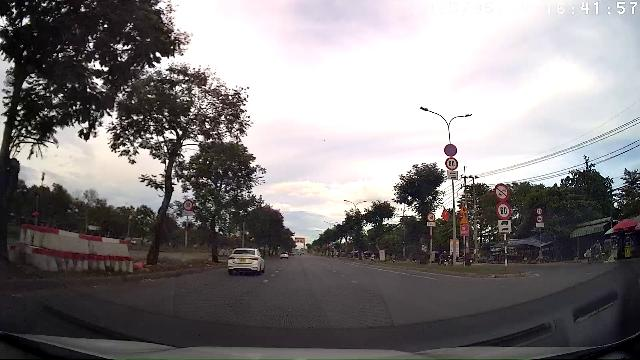127-toc-do-toi-da-50: (183, 199, 194, 211), (536, 207, 543, 215)
127-toc-do-toi-da-60: (496, 202, 511, 220)
127-toc-do-toi-da-80: (445, 158, 459, 170)
130-cam-dung-va-do-xe: (444, 144, 458, 157)
